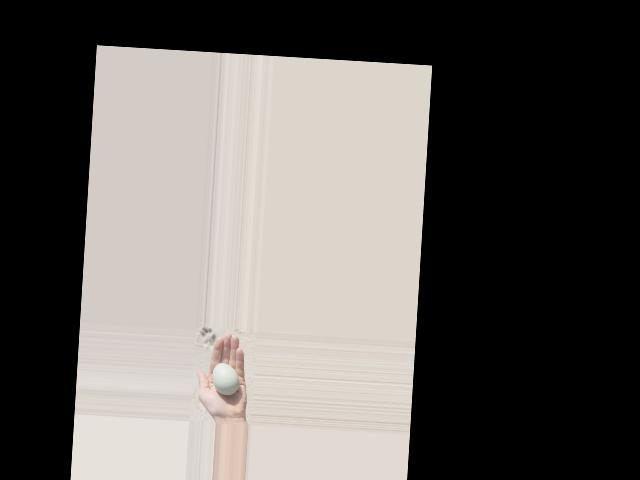egg: (212, 362, 240, 395)
